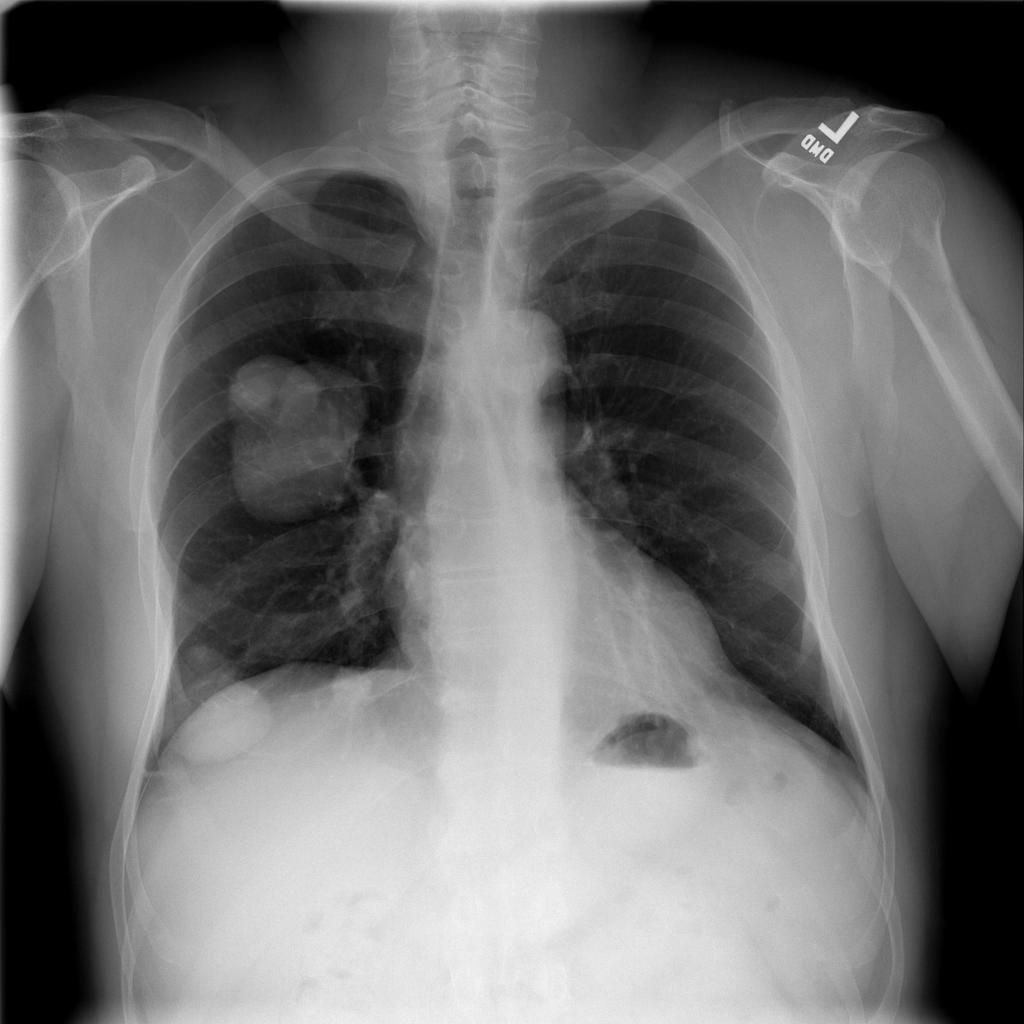nodule: (210, 336, 396, 536), (158, 653, 285, 770)
